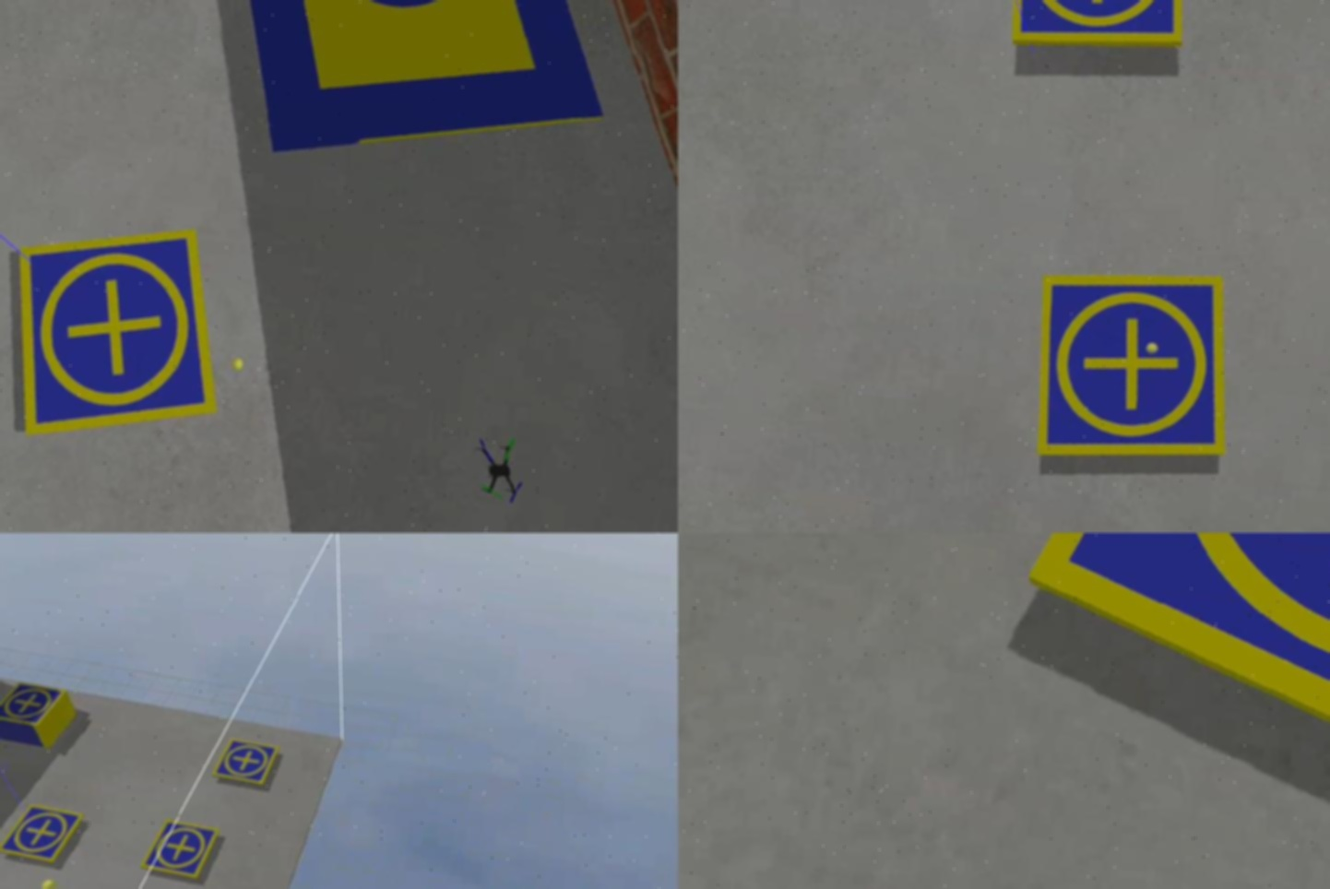large_base: (175, 1, 642, 188)
small_base: (1006, 534, 1330, 848), (1, 212, 236, 458), (1026, 260, 1245, 480), (1003, 1, 1193, 64), (143, 819, 226, 886), (1, 804, 88, 864), (208, 735, 283, 790), (1, 679, 66, 730)
